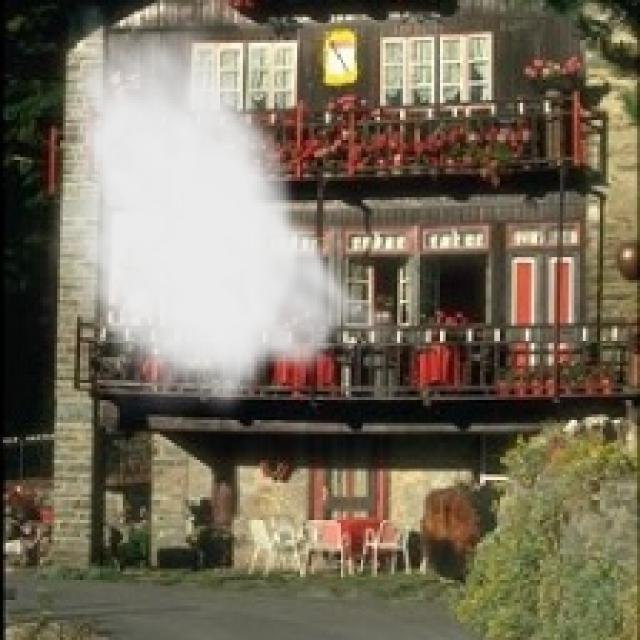Smoke: (46, 0, 406, 423)
